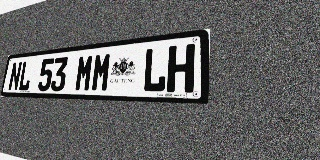3: (50, 57, 68, 91)
5: (37, 58, 55, 91)
H: (166, 44, 195, 93)
L: (142, 46, 168, 92), (18, 60, 33, 91)
M: (91, 52, 112, 92), (74, 54, 94, 92)
N: (8, 61, 22, 91)
